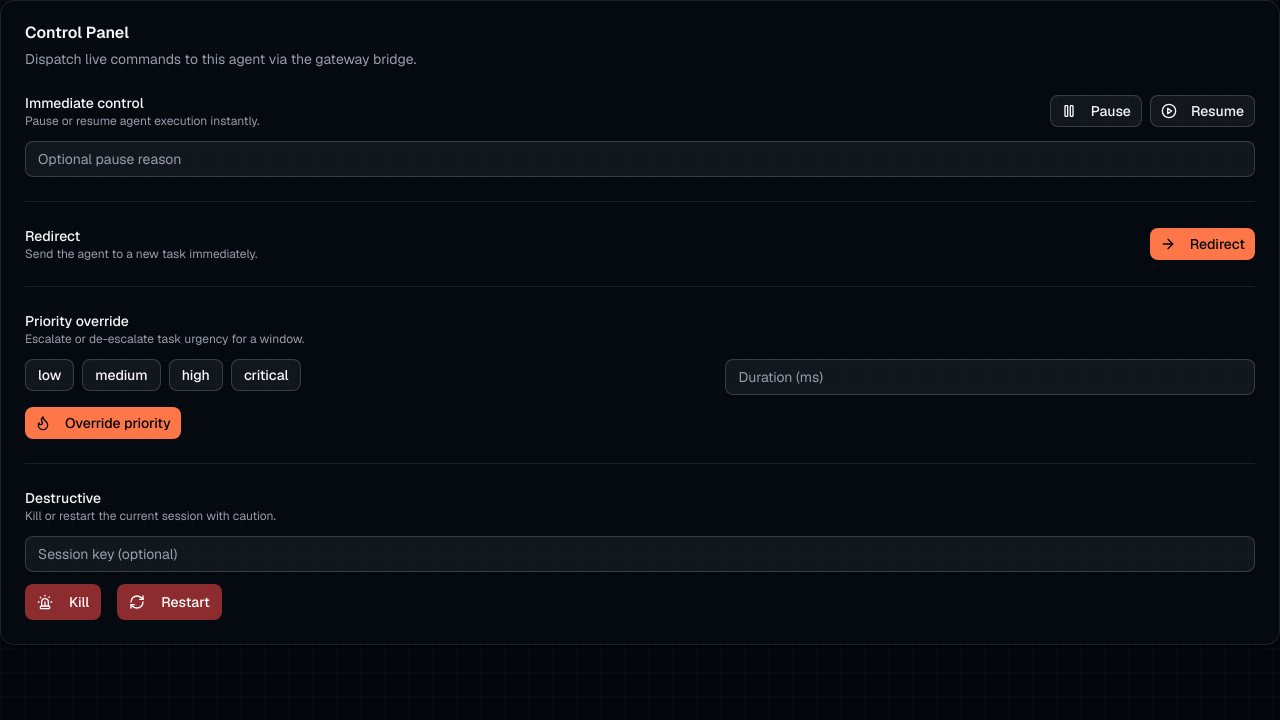
Test: CYD-133 UAT - Control Actions › pauses an agent and updates the operation status
Click the button "Pause" at (1096, 111), box [1050, 95, 1142, 127]
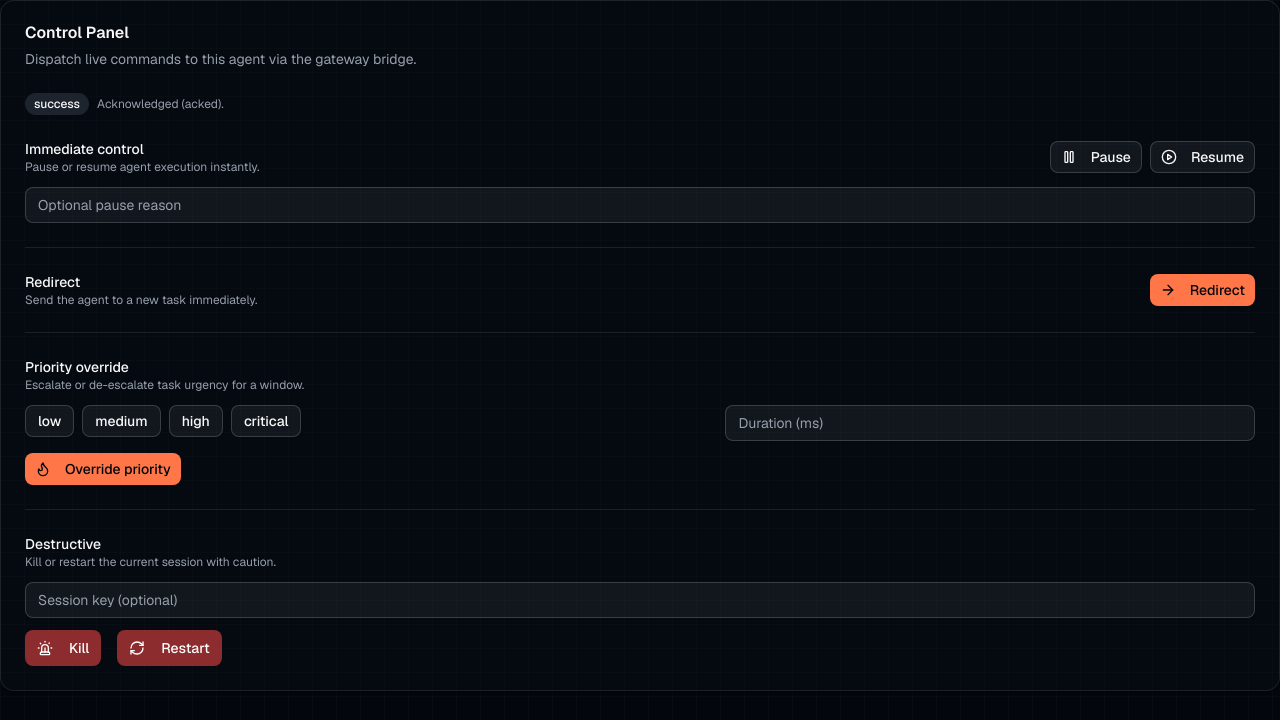
Result: the text "Acknowledged (acked)." is shown at [97, 96, 224, 112]
